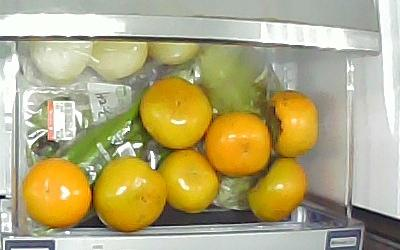persimmon: (94, 156, 167, 233), (138, 77, 212, 151), (22, 158, 92, 229), (205, 111, 271, 179), (245, 155, 310, 222), (158, 149, 219, 214), (265, 89, 320, 158)
